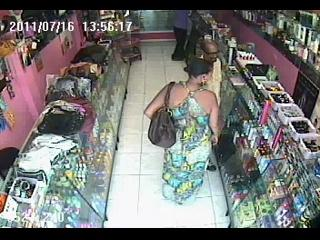Normal: (144, 57, 220, 204), (148, 82, 176, 149), (171, 10, 192, 61)
